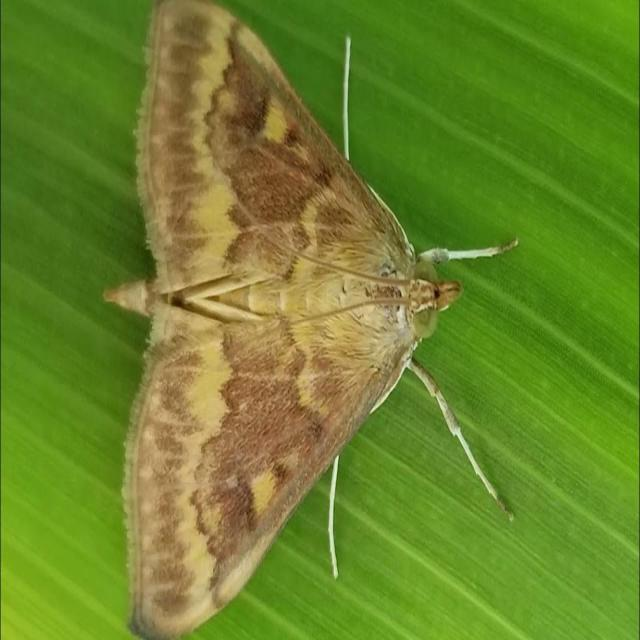cornborer-Adult-: (97, 3, 500, 635)
